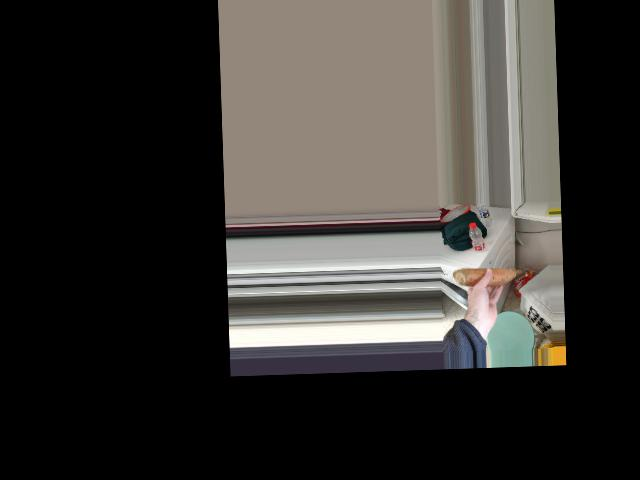sweet_potato: (459, 267, 519, 287)
